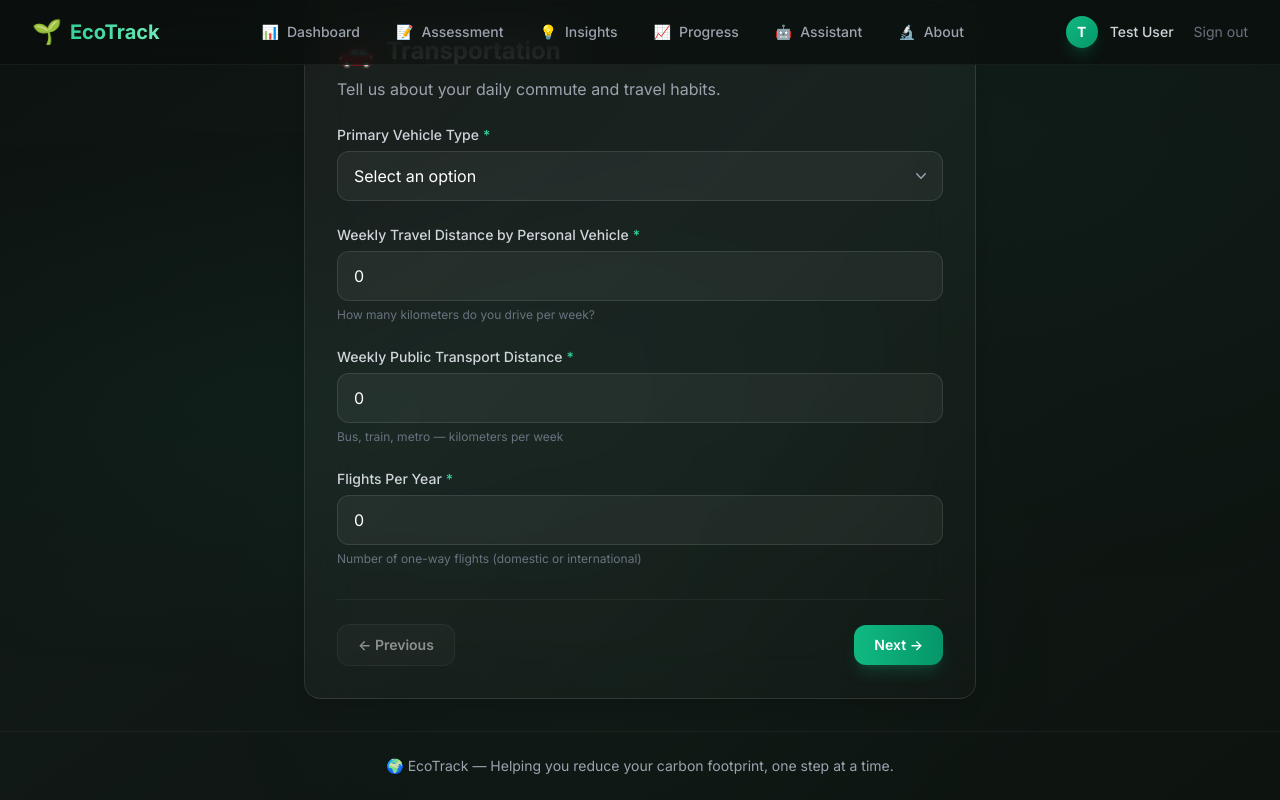
Test case: Assessment Component › shows validation error if next is clicked without selecting vehicle type
The width and height of the screenshot is (1280, 800).
(page scrolled)
Click the button "Next →" at {"x": 899, "y": 645}, box [854,625,943,665]
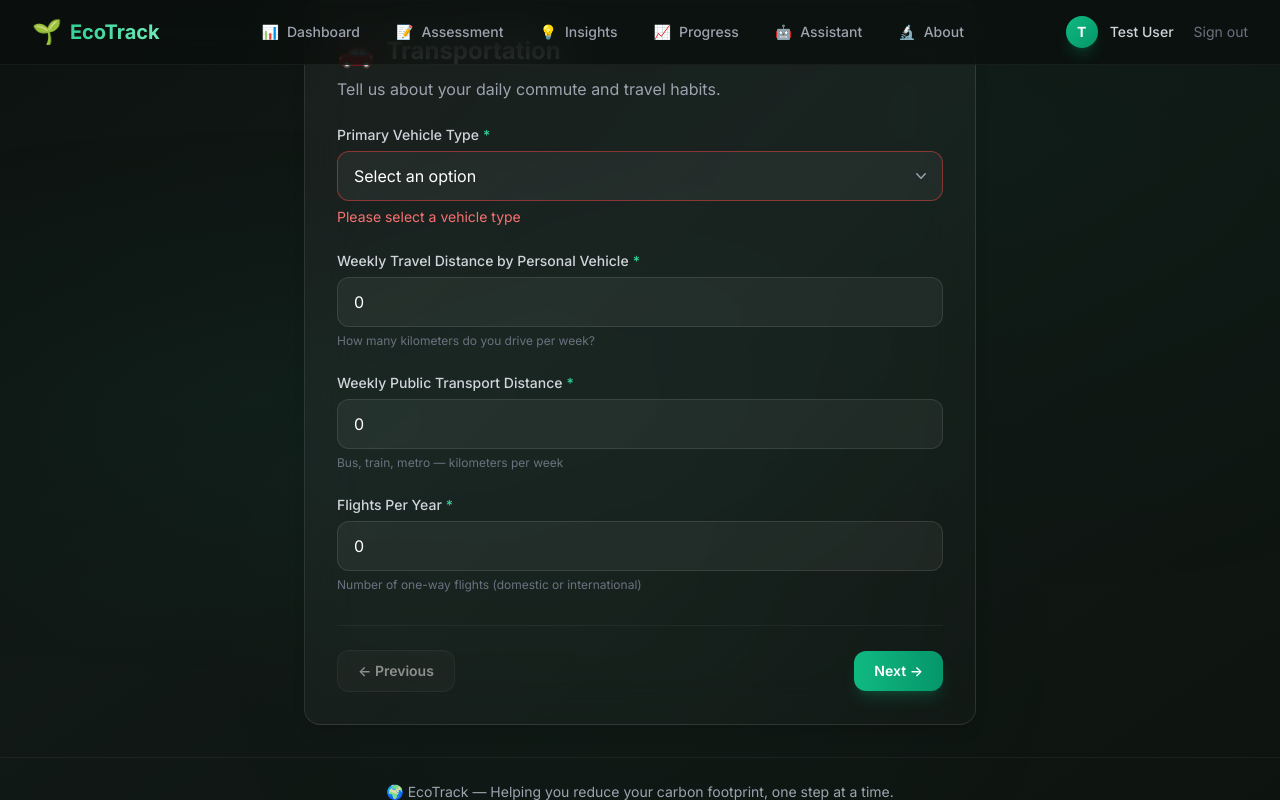
Expected: the text "Please select a vehicle type" is shown, [337,208,521,225]
